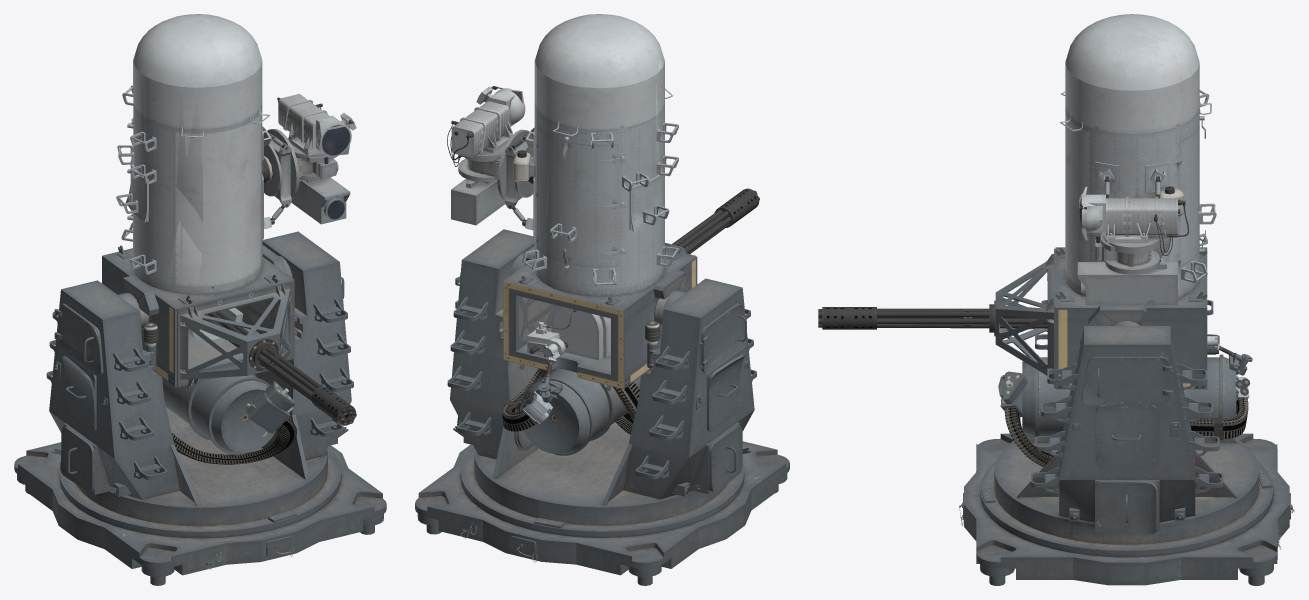
Rendered from VEH_Stationary_AutomaticAA.glb.
3 renders of one model, left to right at view 1: azimuth 30°, elevation 25°; view 2: azimuth 150°, elevation 25°; view 3: azimuth 270°, elevation 25°, orthographic. The views are drawn at different scales.
Parts seen in each view (by area): view 1: ob_veh_stationary_phalanx_base_s0, ob_veh_stationary_phalanx_base_s1; view 2: ob_veh_stationary_phalanx_base_s0, ob_veh_stationary_phalanx_base_s1; view 3: ob_veh_stationary_phalanx_base_s0, ob_veh_stationary_phalanx_base_s1.
Part boxes in pixels (<box>): ob_veh_stationary_phalanx_base_s0: <box>14,14,386,585</box>; ob_veh_stationary_phalanx_base_s1: <box>171,417,296,464</box>; ob_veh_stationary_phalanx_base_s0: <box>415,14,789,585</box>; ob_veh_stationary_phalanx_base_s1: <box>502,369,639,434</box>; ob_veh_stationary_phalanx_base_s0: <box>818,14,1294,585</box>; ob_veh_stationary_phalanx_base_s1: <box>1004,397,1248,466</box>.
Bounding box in the file's own units: 2.79 × 4.78 × 4.1.
Materials: 3 (3 with a texture image).
